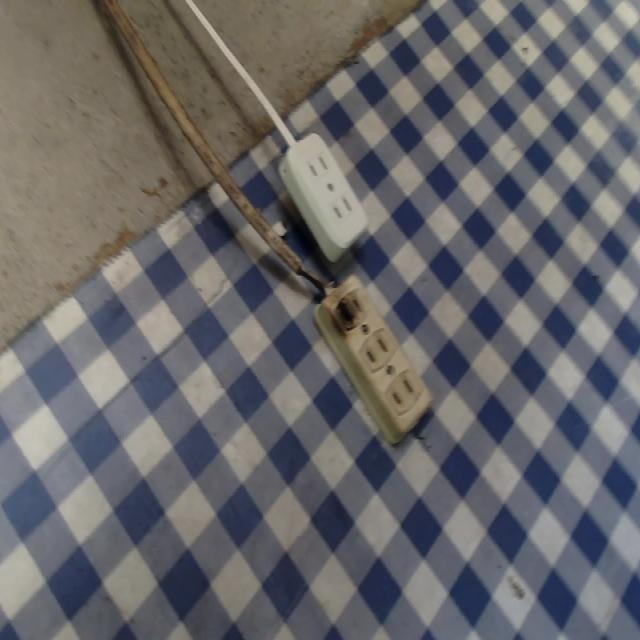-: (325, 293, 360, 339)
